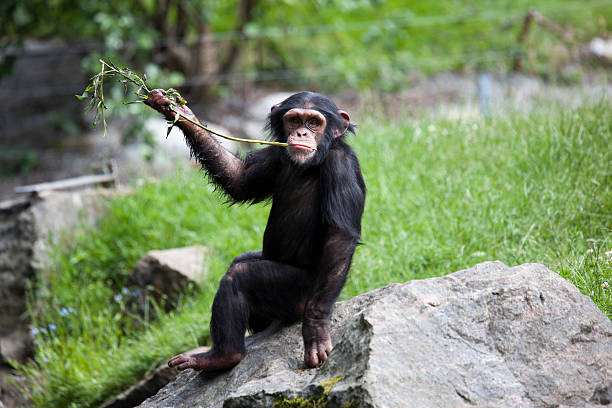chimpanzee: (243, 86, 371, 184)
